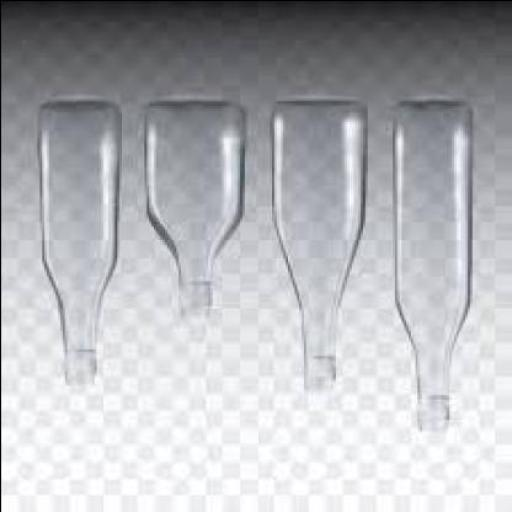glass: (271, 102, 367, 389), (394, 103, 471, 423), (41, 100, 123, 385), (142, 98, 244, 316)
